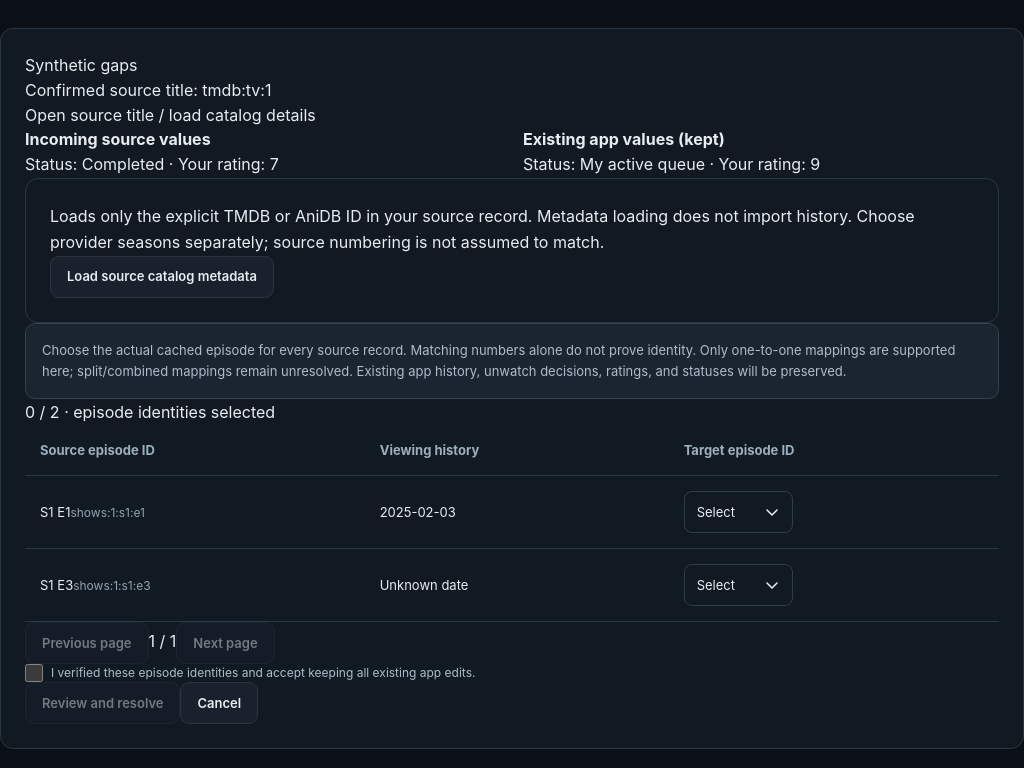
review displays incoming versus existing values and explicit unwatch decisions
This screenshot has width=1024, height=768.
Expected: the text "Incoming source values" is shown, [25,129,211,149]
Expected: the text "Status: My active queue · Your rating: 9" is shown, [523,154,820,174]
Select "S1 E1 · t1" in the dropdown named "Target episode ID shows:1:s1:e1" at (738, 512), box [684,491,793,533]
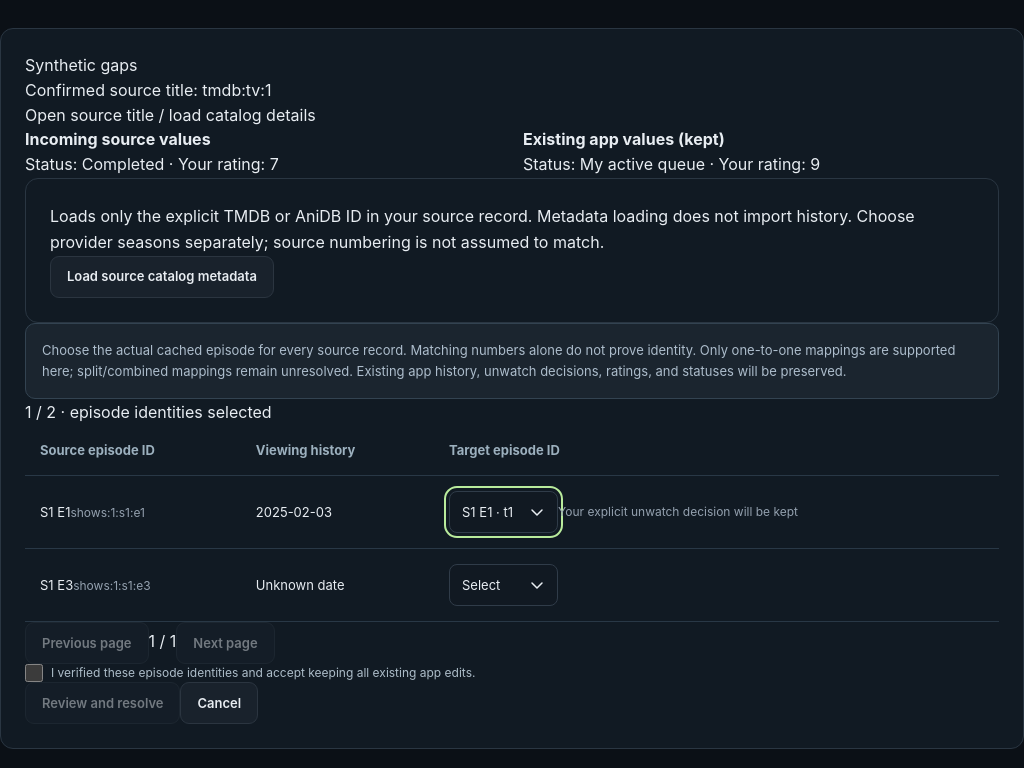
Now the text "Your explicit unwatch decision will be kept" is shown, box [558,505,798,520]
